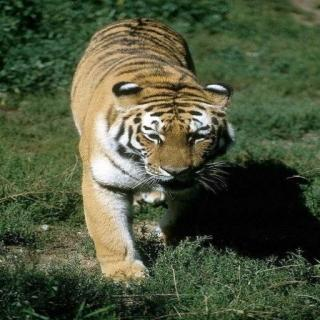Tiger: (66, 10, 240, 289)
